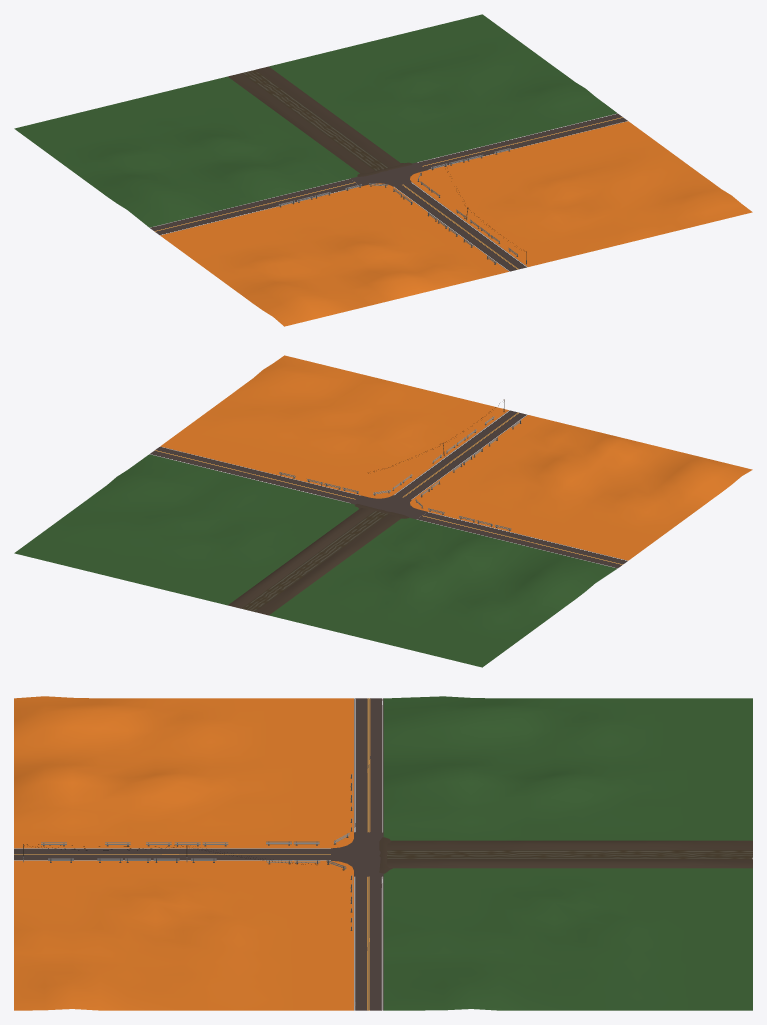
Rendered from TileForestDesert.fbx.
The picture shows the model from 3 angles, top to bottom: view 1: azimuth 30°, elevation 25°; view 2: azimuth 150°, elevation 25°; view 3: azimuth 270°, elevation 25°; orthographic projection. The views are drawn at different scales.
Visible parts, largest first — view 1: Plane.054, Plane.052, Plane.053, Road.012, Road.013, Road.011, Road.014, Road1.023; view 2: Plane.054, Plane.052, Plane.053, Road.013, Road.012, Road.011, Road.014, Road1.023; view 3: Plane.054, Plane.052, Plane.053, Road.012, Road.013, Road.011, Road.014, Road1.023.
Boxes of the visible parts, bbox=[...] form: Plane.054: bbox=[14, 14, 617, 227]; Plane.052: bbox=[160, 121, 752, 326]; Plane.053: bbox=[228, 66, 412, 176]; Road.012: bbox=[417, 113, 627, 170]; Road.013: bbox=[149, 178, 359, 235]; Road.011: bbox=[393, 182, 527, 271]; Road.014: bbox=[241, 70, 388, 171]; Road1.023: bbox=[350, 162, 426, 186]; Plane.054: bbox=[14, 454, 616, 667]; Plane.052: bbox=[160, 355, 752, 560]; Plane.053: bbox=[228, 503, 408, 615]; Road.013: bbox=[417, 511, 627, 568]; Road.012: bbox=[150, 446, 360, 503]; Road.011: bbox=[393, 410, 527, 499]; Road.014: bbox=[241, 511, 388, 611]; Road1.023: bbox=[350, 495, 426, 519]; Plane.054: bbox=[383, 696, 752, 1010]; Plane.052: bbox=[14, 696, 353, 1010]; Plane.053: bbox=[379, 837, 752, 873]; Road.012: bbox=[354, 876, 383, 1010]; Road.013: bbox=[354, 698, 383, 832]; Road.011: bbox=[14, 848, 330, 860]; Road.014: bbox=[387, 850, 752, 859]; Road1.023: bbox=[331, 832, 383, 876].
Bounding box in the file's own units: 20008 × 550 × 20000.
